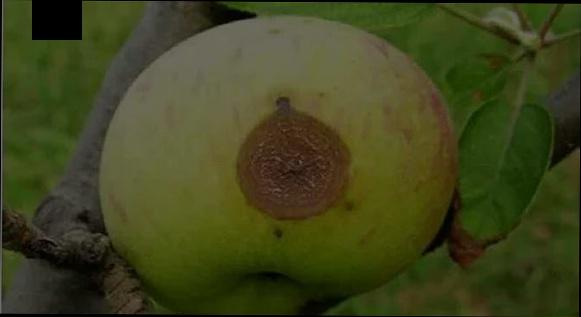rotten apple: (94, 14, 465, 313)
